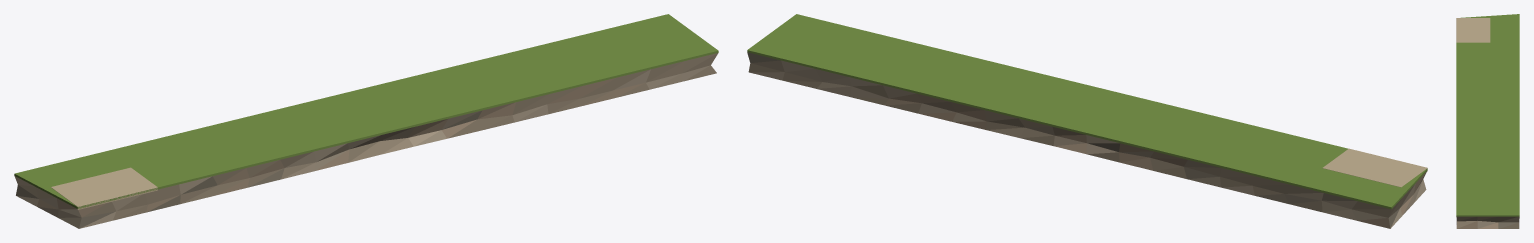
File: alc_ground_dock.glb
3 views of the same model, side by side, from view 1: azimuth 30°, elevation 25°; view 2: azimuth 150°, elevation 25°; view 3: azimuth 270°, elevation 25° (orthographic). The views are drawn at different scales.
Visible parts, largest first — view 1: alc_ground_dock; view 2: alc_ground_dock; view 3: alc_ground_dock.
Boxes of the visible parts, left/top/right/bottom form: alc_ground_dock: left=14, top=14, right=718, bottom=228; alc_ground_dock: left=747, top=14, right=1427, bottom=228; alc_ground_dock: left=1456, top=14, right=1519, bottom=228.
Bounding box in the file's own units: 49 × 1.62 × 6.5.
